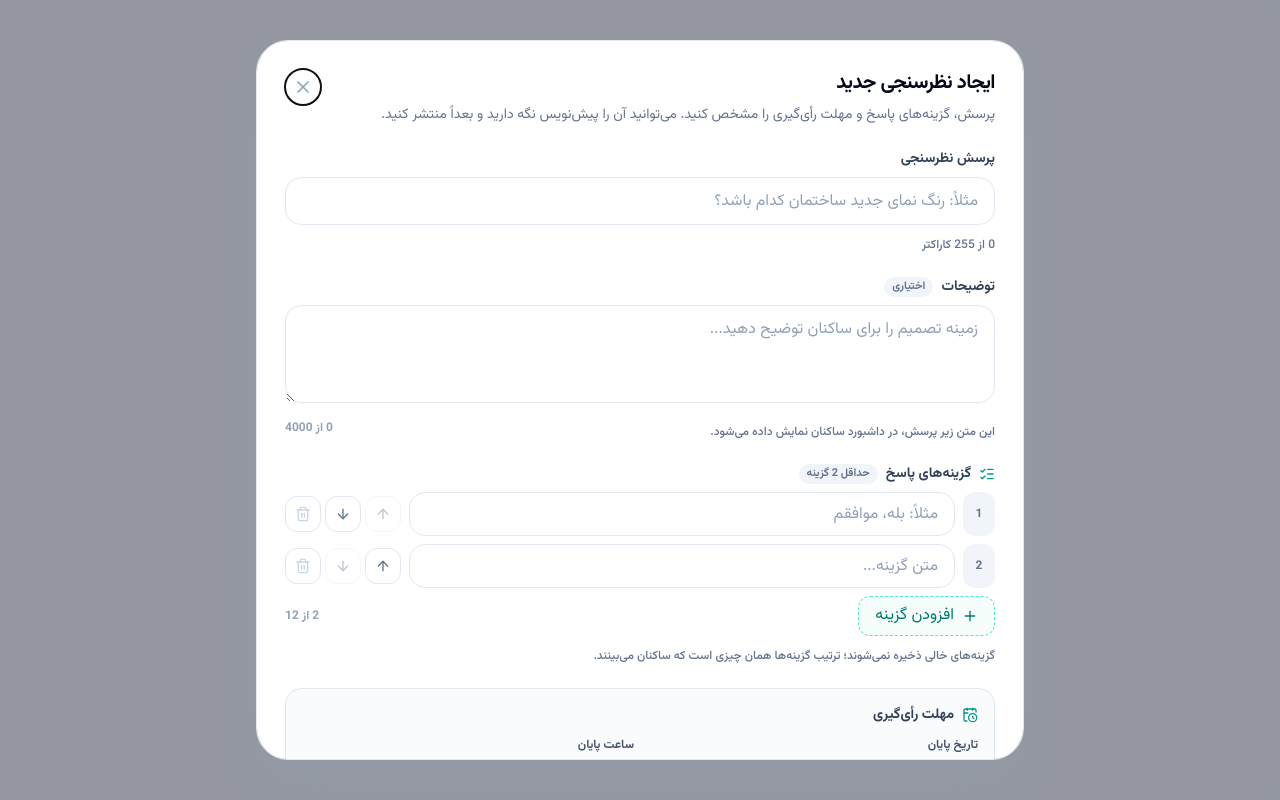
it: PollFormModal › refuses a single answered option
Type "آیا با بازسازی لابی موافقید؟" into the field labelled "پرسش نظرسنجی 0 از 255 کاراکتر" at {"x": 640, "y": 201}, box [285,177,995,225]
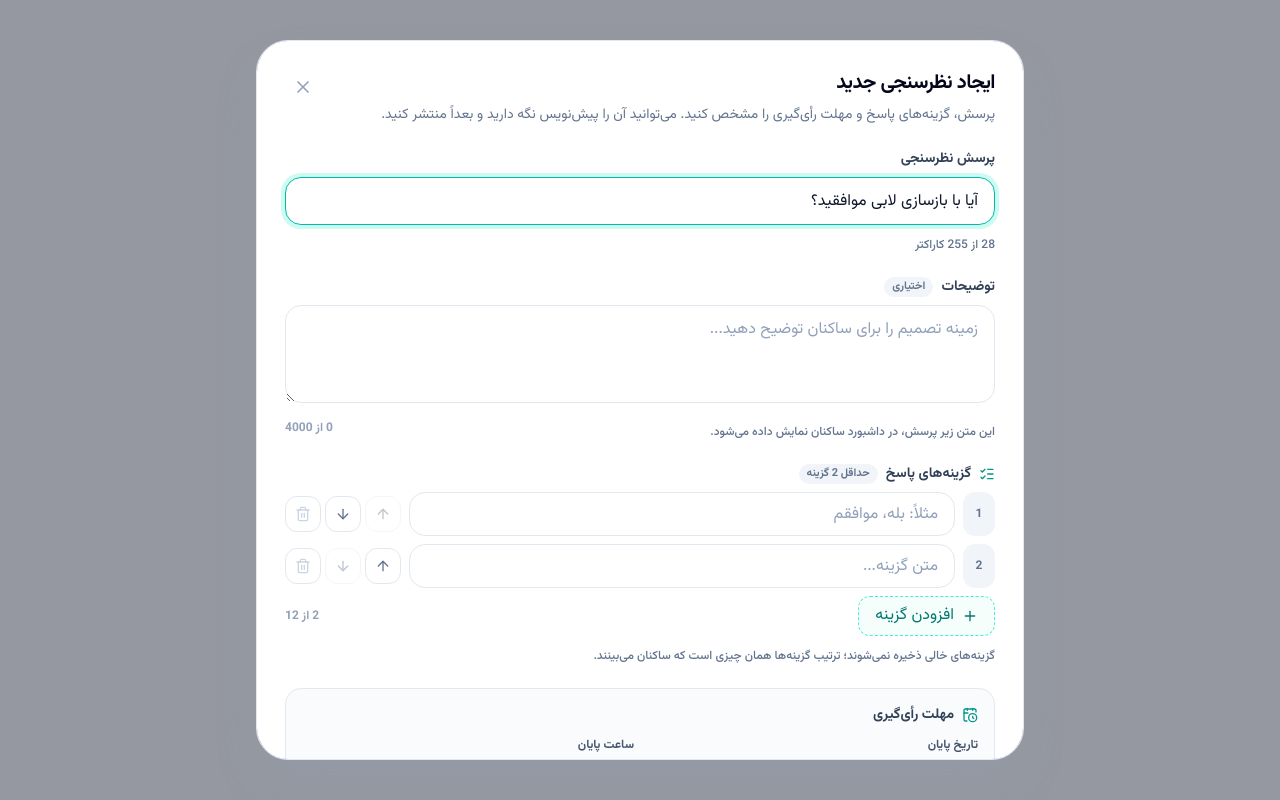
Type "بله" into the field named "گزینه 1" at {"x": 682, "y": 514}, box [409,492,955,536]
(page scrolled)
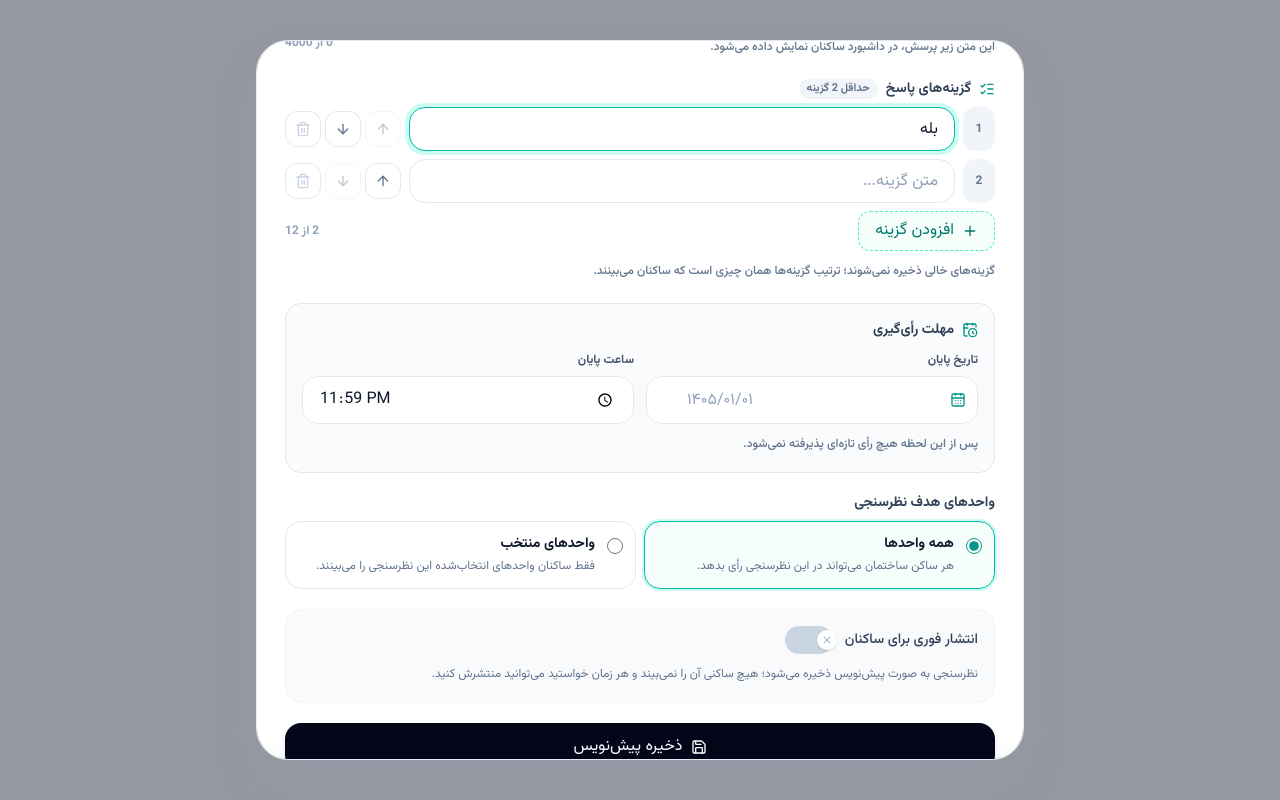
Type "1405/06/05" into the field labelled "تاریخ پایان" at {"x": 812, "y": 400}, box [646,376,978,424]
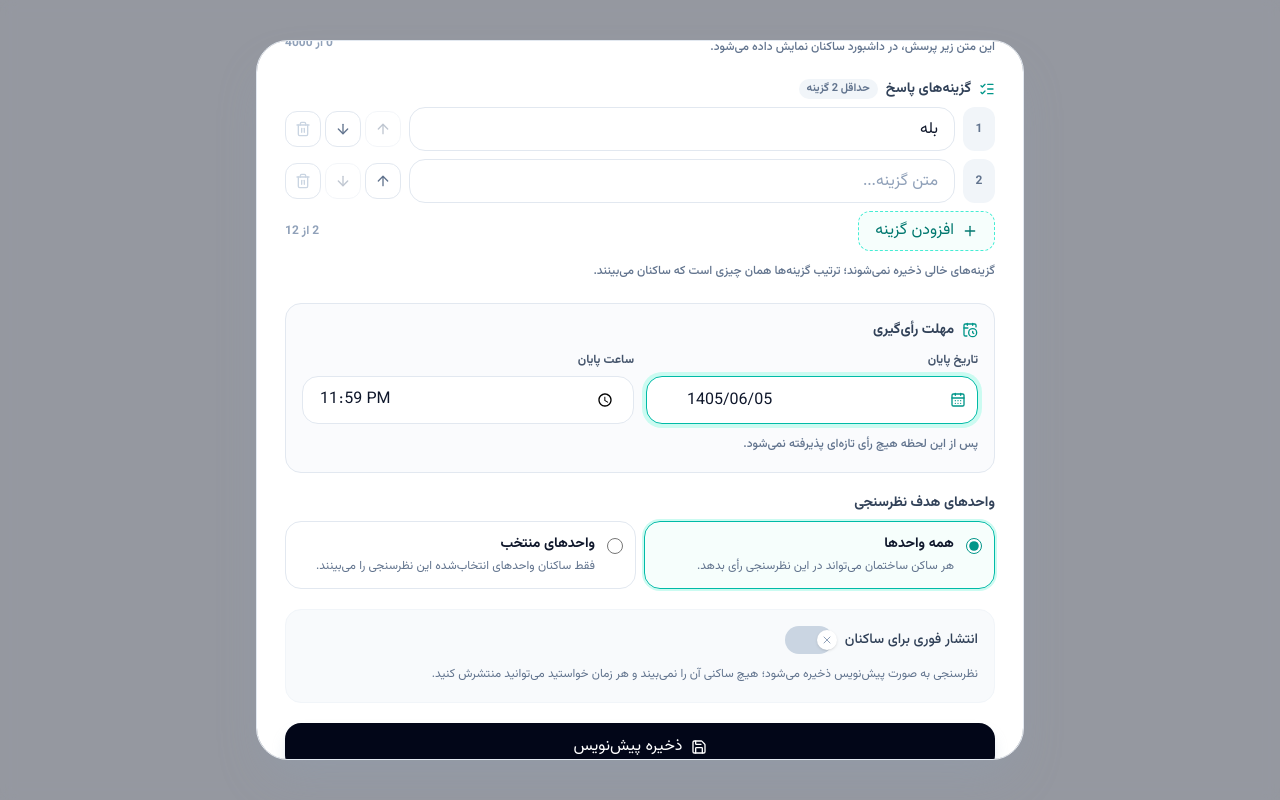
Click the button "ذخیره پیش‌نویس" at {"x": 640, "y": 747}, box [285,723,995,771]
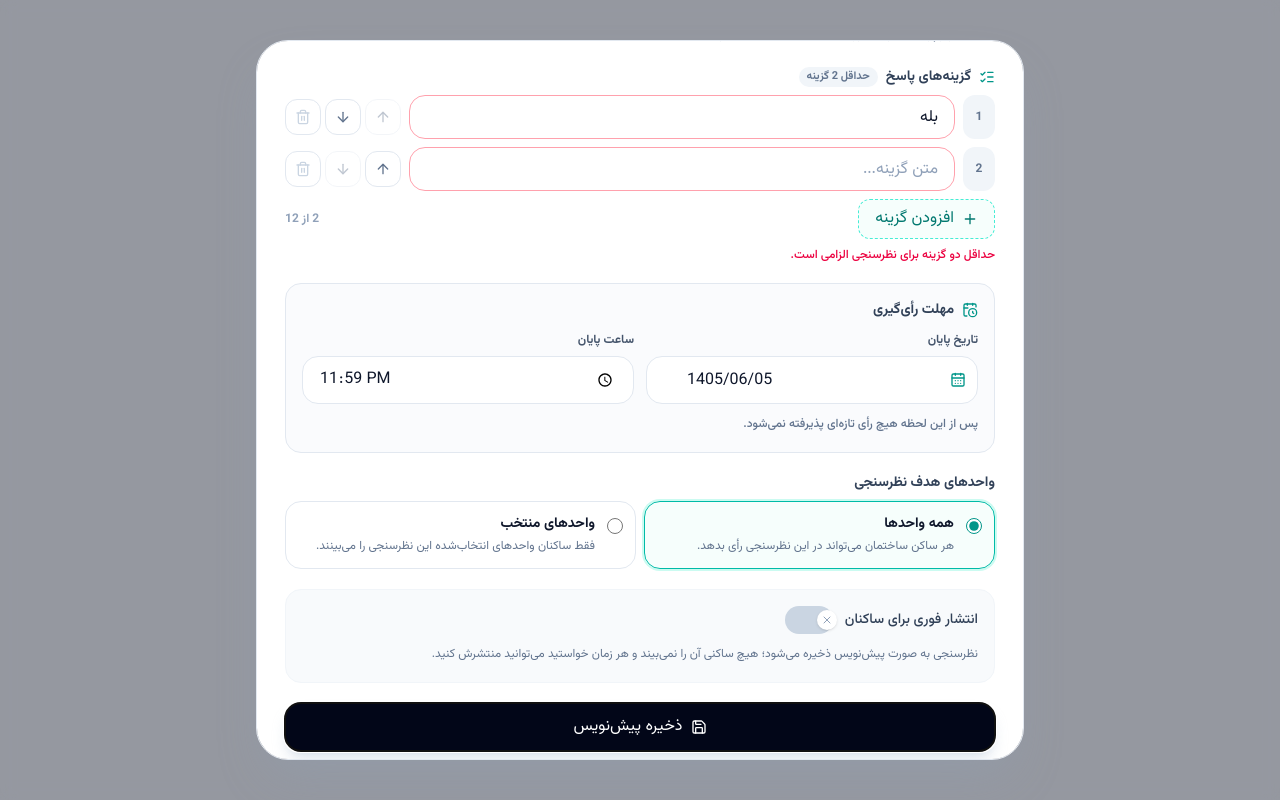
Result: the text "حداقل دو گزینه برای نظرسنجی الزامی است." is shown at [791,246,995,264]
